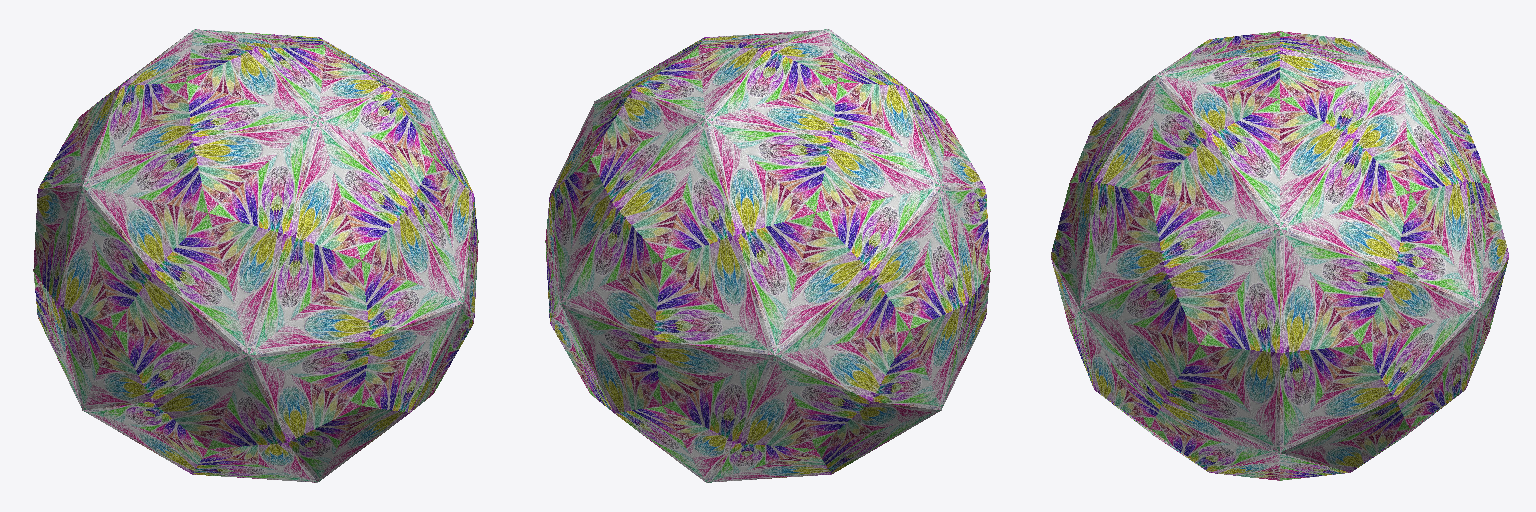
3 renders of one model, left to right at view 1: azimuth 30°, elevation 25°; view 2: azimuth 150°, elevation 25°; view 3: azimuth 270°, elevation 25°, orthographic.
Size of the model in its own units: 4.47 by 4.47 by 4.47.
Materials: 1 (1 with a texture image).